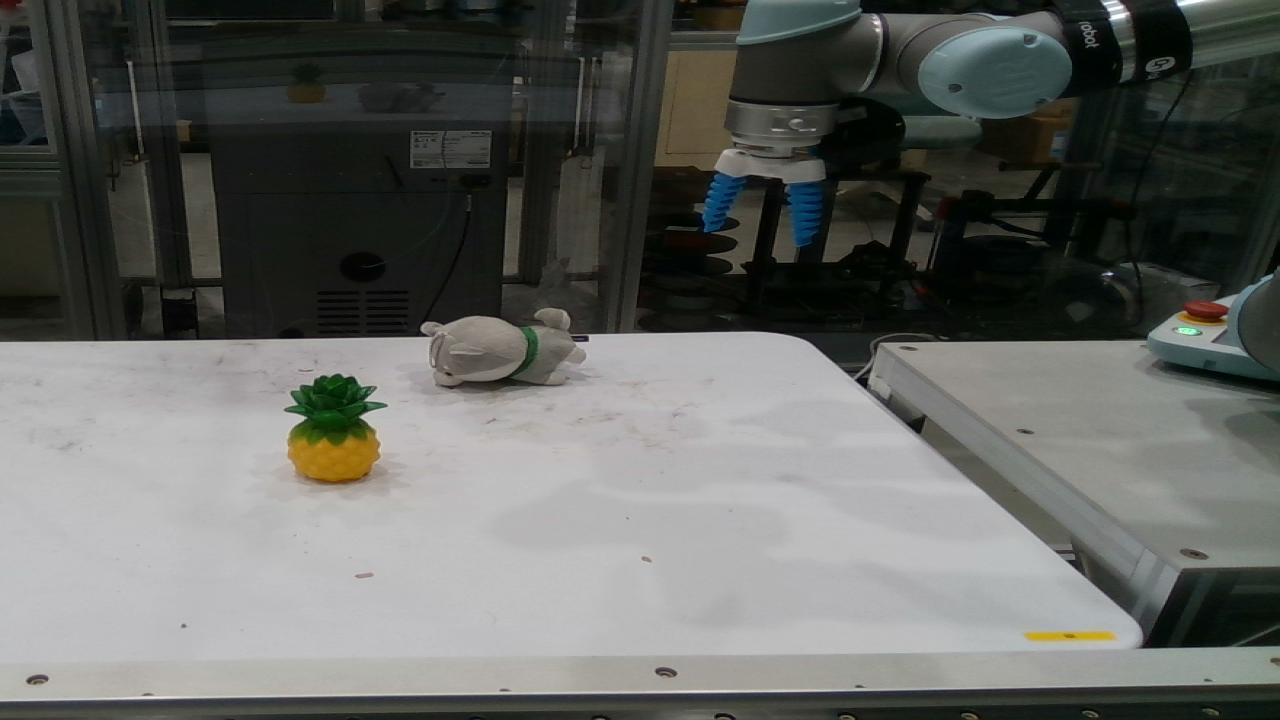UR5: (716, 0, 1279, 182), (1229, 270, 1279, 372)
gripper_left: (701, 173, 745, 232)
gripper_right: (787, 182, 823, 247)
target: (422, 308, 583, 387), (285, 375, 385, 483)
